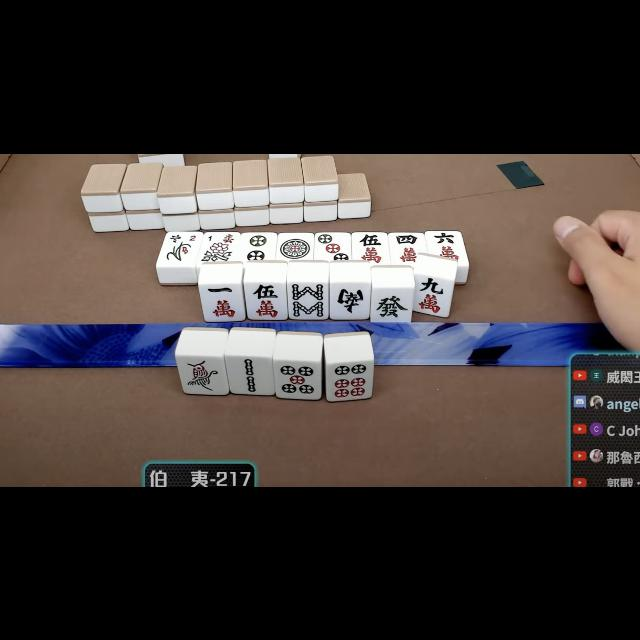b1: (177, 355, 225, 395)
b2: (228, 356, 272, 392)
b8: (288, 280, 328, 318)
c1: (202, 282, 242, 320)
c4: (389, 232, 426, 262)
c5: (246, 281, 286, 319), (353, 232, 389, 262)
c6: (426, 229, 466, 261)
c9: (412, 275, 450, 315)
d1: (277, 232, 313, 260)
d2: (240, 232, 274, 260)
d3: (314, 232, 350, 260)
d5: (274, 358, 320, 398)
d6: (329, 361, 373, 399)
dg: (371, 286, 411, 320)
f2: (161, 231, 203, 243)
s1: (204, 230, 240, 246)
ws: (330, 282, 370, 318)
